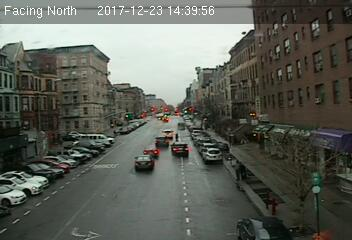car: (134, 154, 155, 171), (202, 147, 222, 164), (170, 140, 189, 156), (153, 135, 171, 148), (142, 145, 159, 156)
